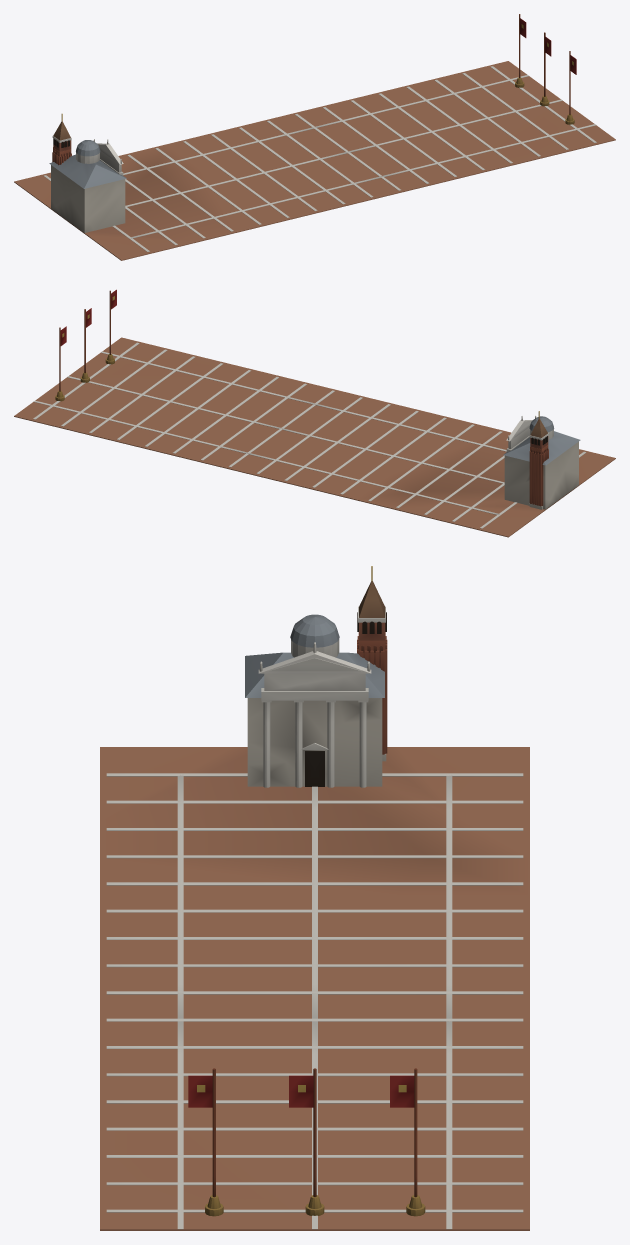
File: piazza-1580.glb
3 renders of one model, top to bottom at view 1: azimuth 30°, elevation 25°; view 2: azimuth 150°, elevation 25°; view 3: azimuth 270°, elevation 25°, orthographic. The views are drawn at different scales.
Visible parts, largest first — view 1: p0_paving, p1_buildings; view 2: p0_paving, p1_buildings; view 3: p0_paving, p1_buildings.
Part boxes in pixels (x1=…): p0_paving: x1=14, y1=61, x2=615, y2=260; p1_buildings: x1=49, y1=14, x2=576, y2=232; p0_paving: x1=14, y1=337, x2=615, y2=537; p1_buildings: x1=55, y1=289, x2=580, y2=509; p0_paving: x1=100, y1=747, x2=529, y2=1230; p1_buildings: x1=188, y1=566, x2=425, y2=1216.
Size of the model in its own units: 170 by 31.3 by 64.
